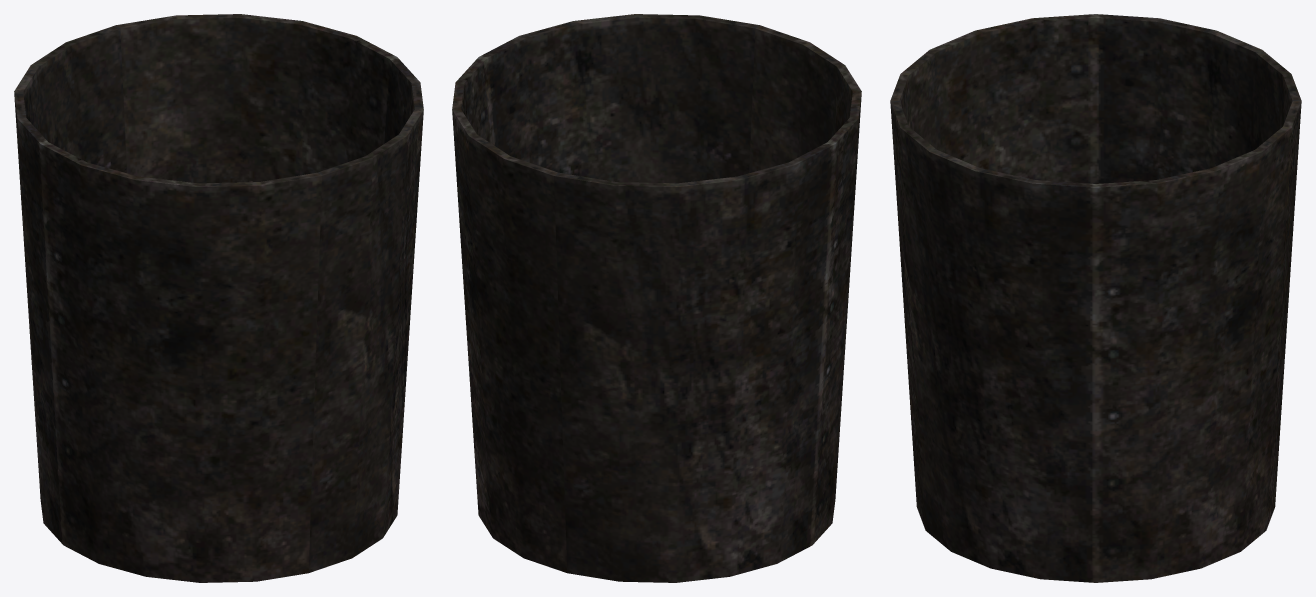
File: cell_bucket.dae
3 views of the same model, side by side, from view 1: azimuth 30°, elevation 25°; view 2: azimuth 150°, elevation 25°; view 3: azimuth 270°, elevation 25° (orthographic).
Visible parts, largest first — view 1: pCylinder1; view 2: pCylinder1; view 3: pCylinder1.
Boxes of the visible parts, x1=… form: pCylinder1: x1=14, y1=14, x2=423, y2=582; pCylinder1: x1=452, y1=14, x2=861, y2=582; pCylinder1: x1=890, y1=14, x2=1301, y2=582.
Size of the model in its own units: 0.4696 by 0.5119 by 0.4696.
